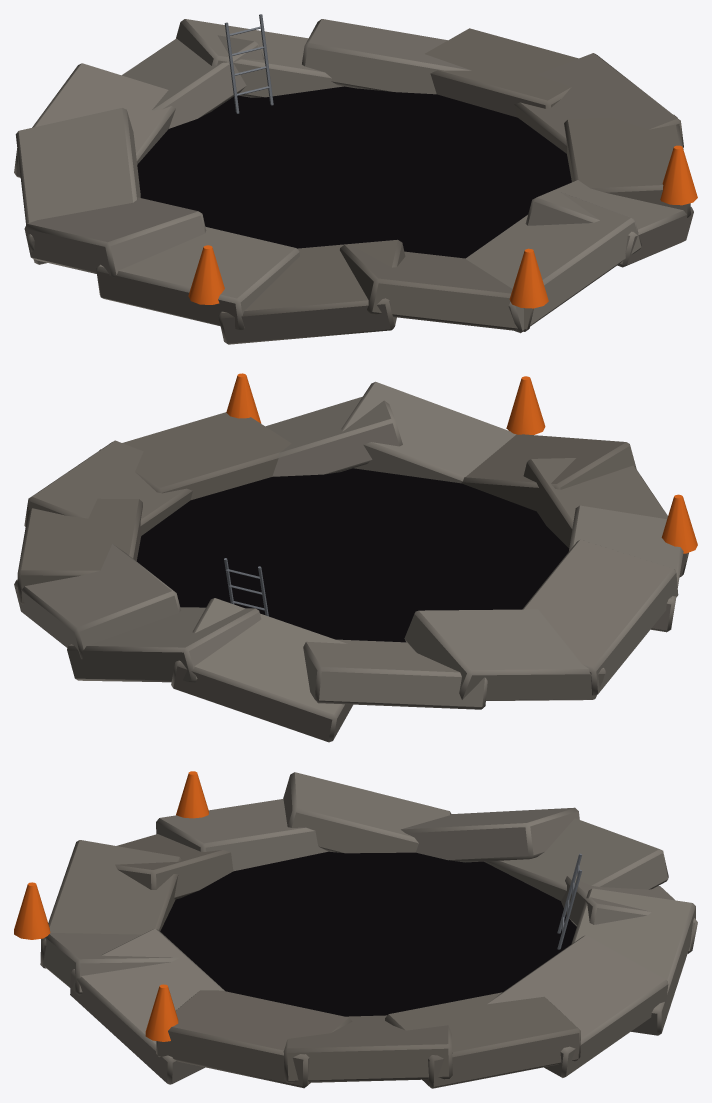
File: sinkhole_rim.glb
The picture shows the model from 3 angles, top to bottom: view 1: azimuth 30°, elevation 25°; view 2: azimuth 150°, elevation 25°; view 3: azimuth 270°, elevation 25°; orthographic projection. The views are drawn at different scales.
Parts seen in each view (by area): view 1: sinkhole_rim; view 2: sinkhole_rim; view 3: sinkhole_rim.
Part boxes in pixels (<box>): sinkhole_rim: <box>14,14,697,344</box>; sinkhole_rim: <box>14,373,697,742</box>; sinkhole_rim: <box>14,771,697,1088</box>.
Size of the model in its own units: 8.82 by 1.8 by 9.35.
